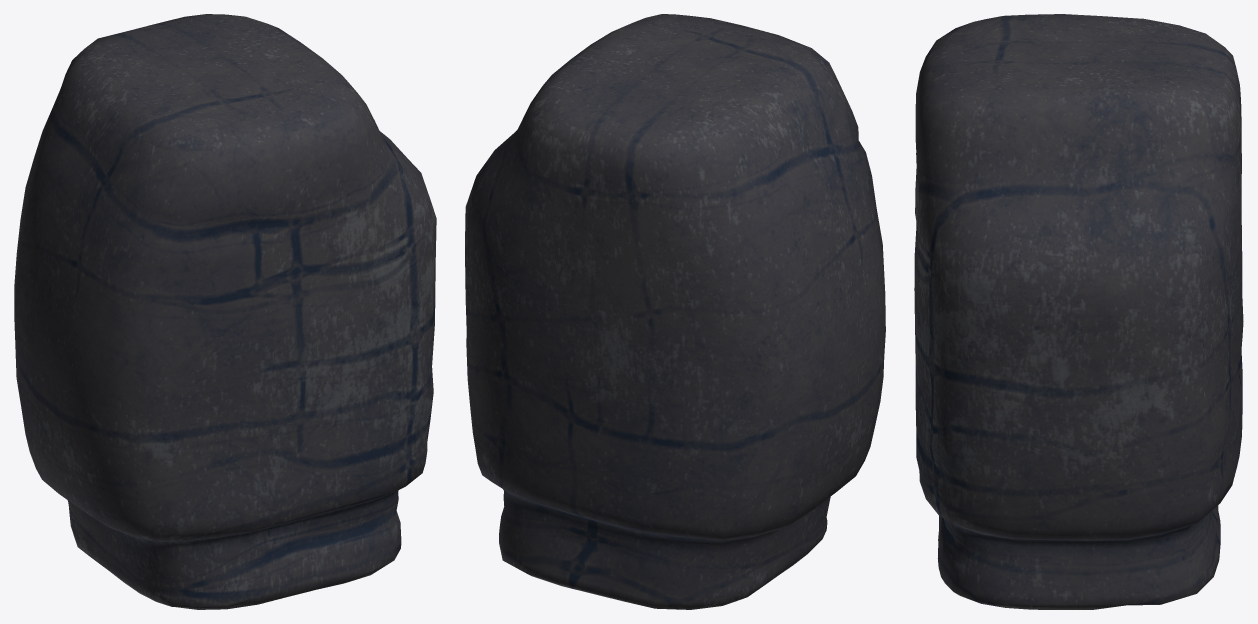
File: obstacle_moyen3.obj
3 views of the same model, side by side, from view 1: azimuth 30°, elevation 25°; view 2: azimuth 150°, elevation 25°; view 3: azimuth 270°, elevation 25° (orthographic).
Parts seen in each view (by area): view 1: obstacle_moyen3:Group38326; view 2: obstacle_moyen3:Group38326; view 3: obstacle_moyen3:Group38326.
Boxes of the visible parts, bbox=[...] form: obstacle_moyen3:Group38326: bbox=[14, 14, 436, 609]; obstacle_moyen3:Group38326: bbox=[465, 14, 885, 609]; obstacle_moyen3:Group38326: bbox=[914, 14, 1243, 609].
Size of the model in its own units: 1323 by 1755 by 1074.
1 material, 1 textured.
